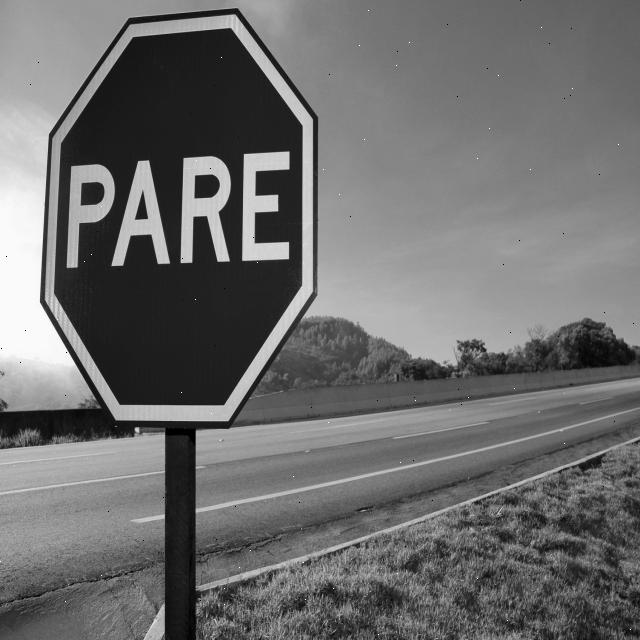Stop-sign: (31, 1, 324, 442)
